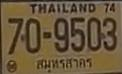0: (24, 18, 40, 52), (87, 16, 100, 50)
3: (102, 16, 116, 50)
5: (70, 16, 84, 51)
7: (7, 17, 23, 54)
9: (54, 18, 68, 52)
SKN: (32, 54, 95, 72)
